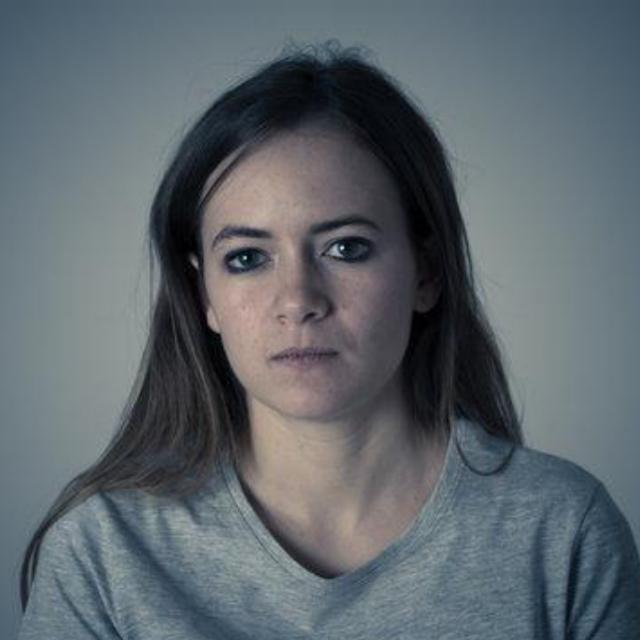Natural: (184, 81, 460, 430)
